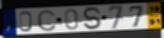0: (64, 8, 80, 31), (18, 11, 33, 33)
7: (107, 5, 125, 31), (128, 5, 145, 28)
C: (36, 8, 58, 32)
S: (82, 6, 104, 31)
